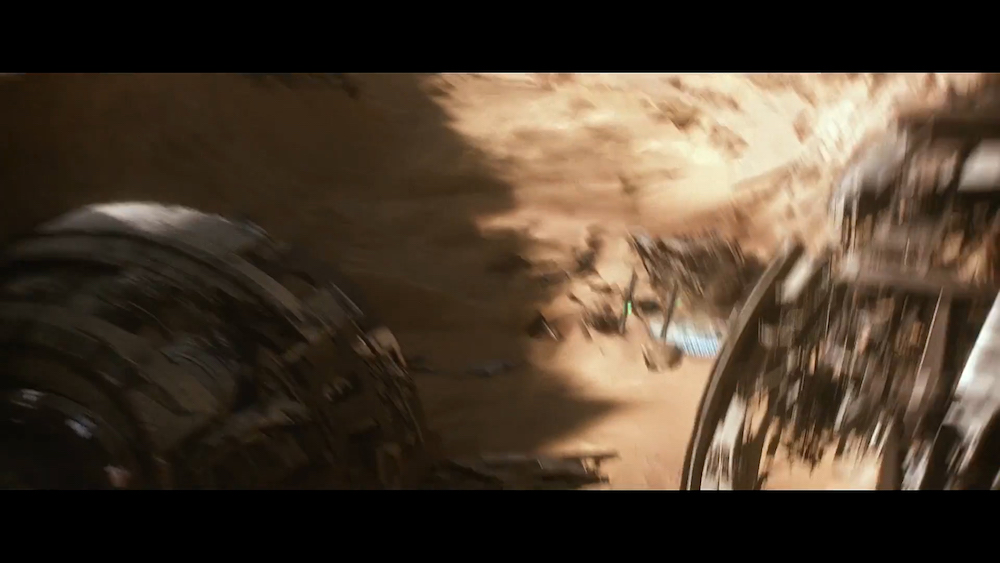Tie Fighter: (616, 268, 682, 346)
